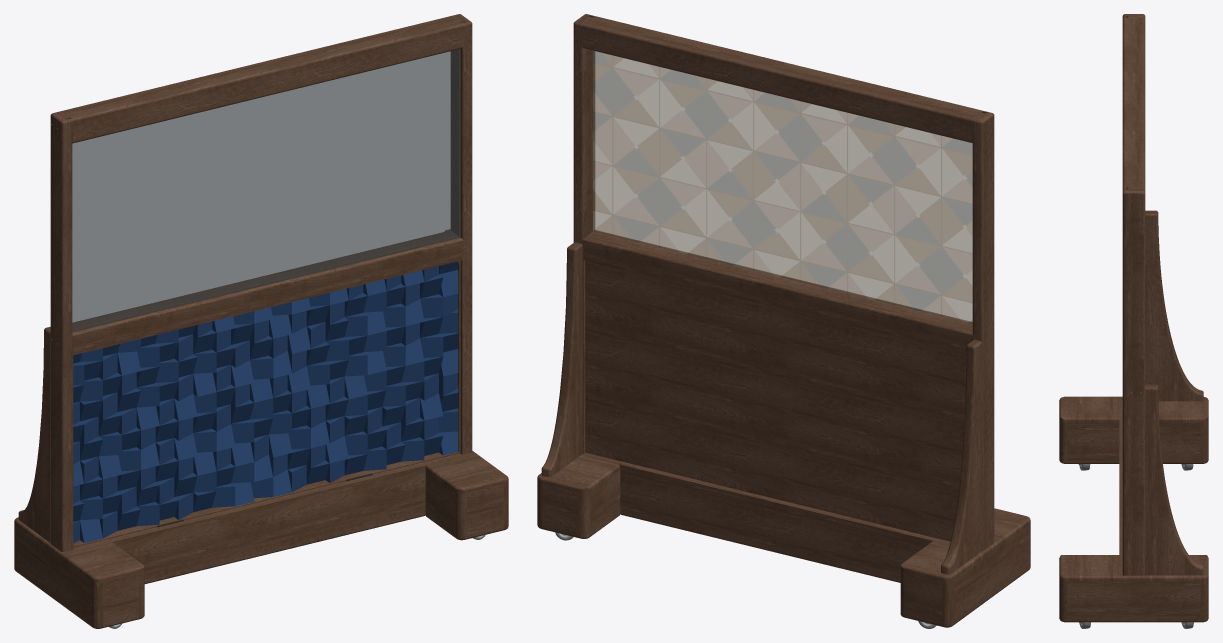
File: v10-linen-marquetry-walnut-one.glb
3 views of the same model, side by side, from view 1: azimuth 30°, elevation 25°; view 2: azimuth 150°, elevation 25°; view 3: azimuth 270°, elevation 25° (orthographic). The views are drawn at different scales.
Parts seen in each view (by area): view 1: Wood, Linen Marquetry reverse, Navy Everwood relief; view 2: Wood, Linen Marquetry print; view 3: Wood, Nonmarking rubber.
Boxes of the visible parts, left/top/right/bottom form: Wood: left=14, top=14, right=508, bottom=628; Linen Marquetry reverse: left=72, top=49, right=460, bottom=331; Navy Everwood relief: left=73, top=261, right=458, bottom=543; Wood: left=537, top=14, right=1030, bottom=627; Linen Marquetry print: left=593, top=51, right=972, bottom=323; Wood: left=1059, top=14, right=1208, bottom=622; Nonmarking rubber: left=1079, top=464, right=1193, bottom=628.
Size of the model in its own units: 1.68 by 1.91 by 0.5842.
Materials: 10 (2 with a texture image).
